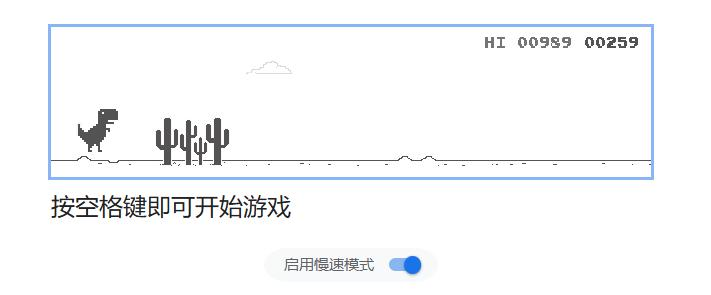cactus: (155, 116, 232, 167)
dino: (76, 107, 120, 153)
